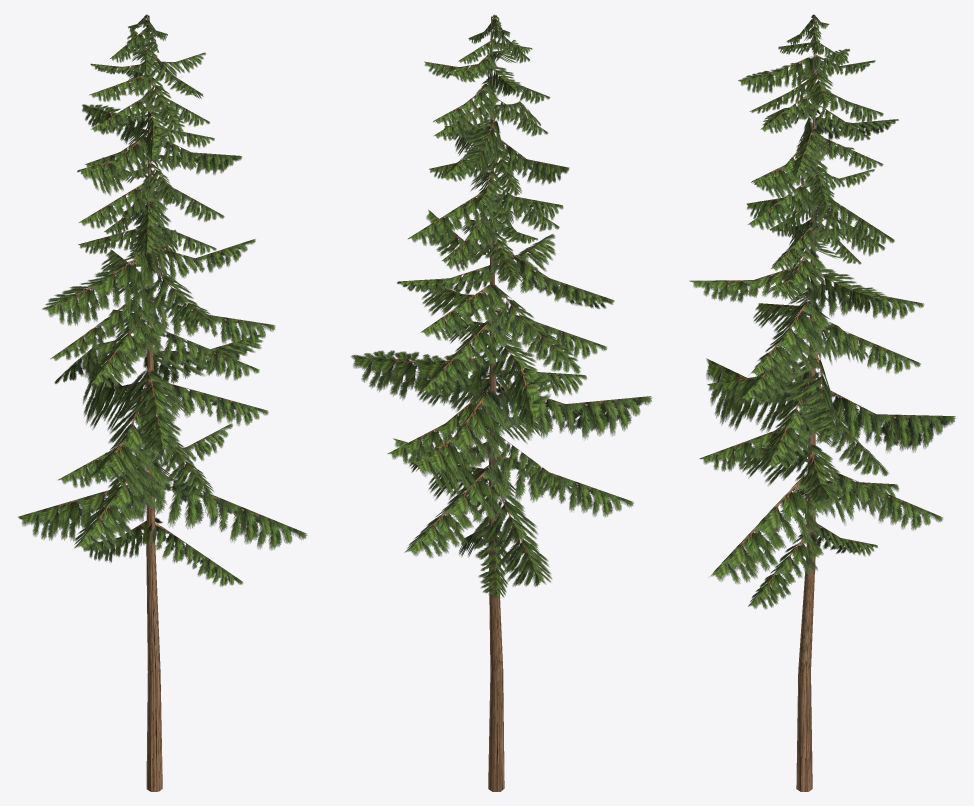
Rendered from pine_tree_218poly.glb.
The picture shows the model from 3 angles, left to right: view 1: azimuth 30°, elevation 25°; view 2: azimuth 150°, elevation 25°; view 3: azimuth 270°, elevation 25°; orthographic projection.
Parts seen in each view (by area): view 1: Branches, Branches2, PineTree; view 2: Branches, Branches2, PineTree; view 3: Branches, Branches2, PineTree.
Part boxes in pixels (x1,y1,x2,y2): Branches: (18, 181, 307, 586); Branches2: (77, 14, 242, 259); PineTree: (146, 15, 162, 791); Branches: (350, 185, 652, 598); Branches2: (408, 14, 569, 263); PineTree: (488, 16, 504, 791); Branches: (689, 186, 955, 609); Branches2: (738, 14, 898, 264); PineTree: (796, 18, 815, 791).
Bounding box in the file's own units: 4.73 × 13.16 × 4.24.
2 materials, 2 textured.
